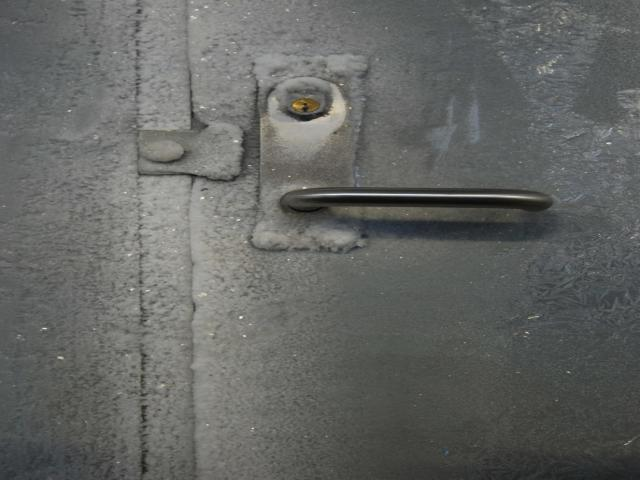Door-handle: (250, 53, 553, 252)
